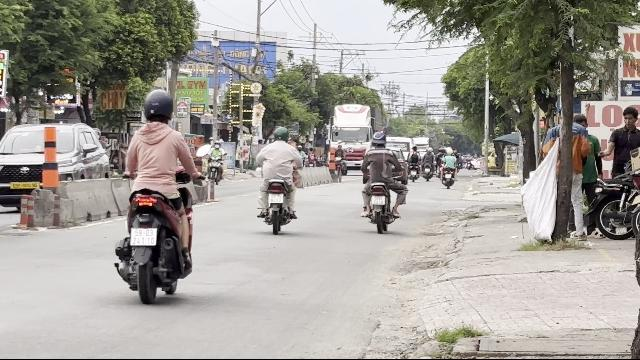helmet: (140, 88, 176, 124), (370, 131, 386, 147), (273, 126, 289, 140)
licenseplate: (130, 227, 156, 245), (268, 193, 284, 203), (370, 196, 386, 204)
motorcyclist: (113, 89, 199, 303), (254, 124, 302, 232), (358, 130, 407, 232)
